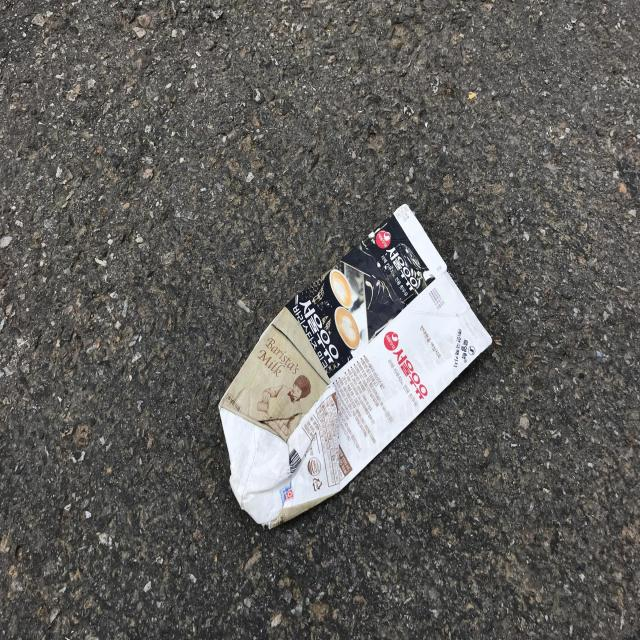paperpack: (220, 204, 492, 527)
